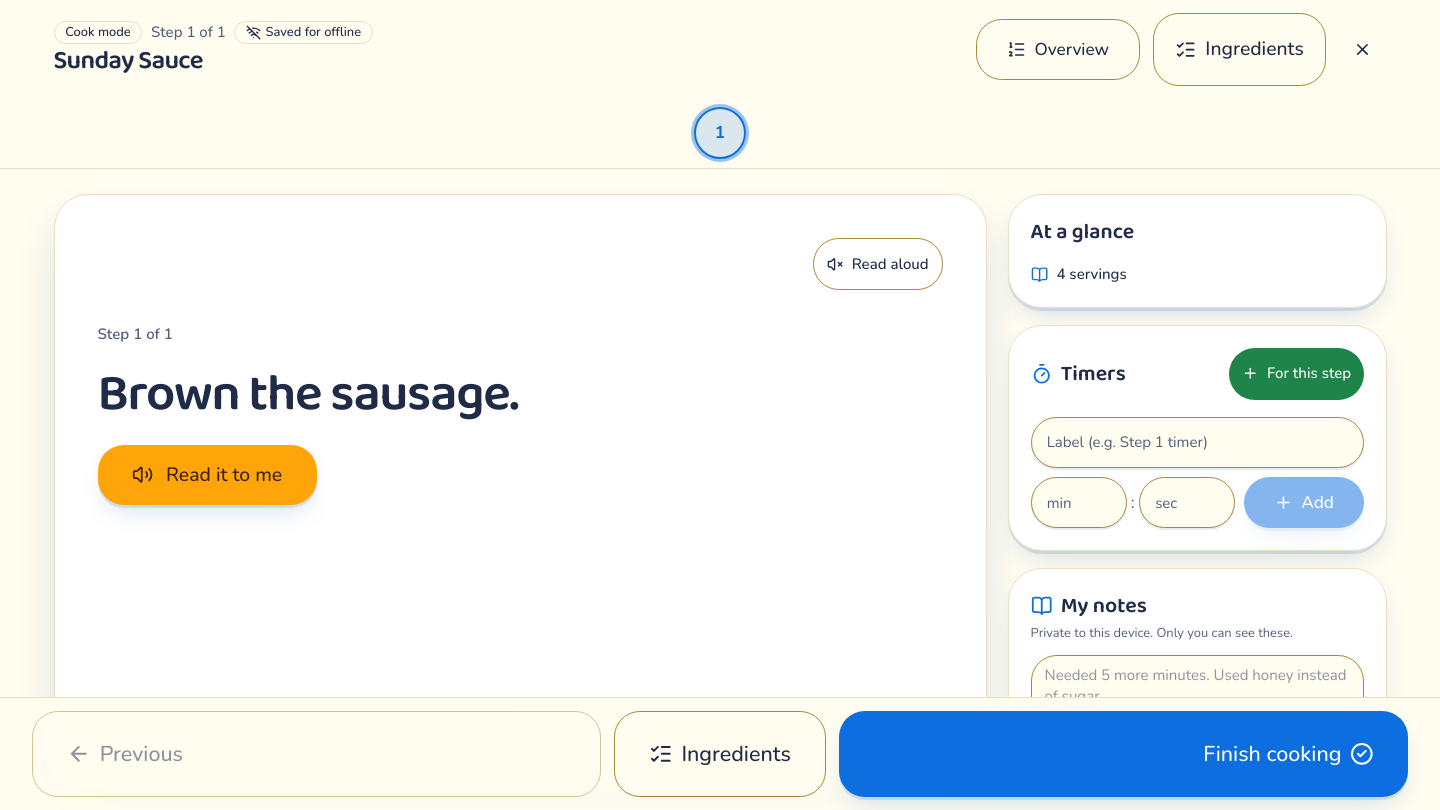
Test: Cook Mode collectible badges (issue #413) › keeps earned badges on a revisitable shelf
This screenshot has width=1440, height=810.
Click the button "Finish cooking" at (1272, 754), box left=839, top=711, right=1408, bottom=797
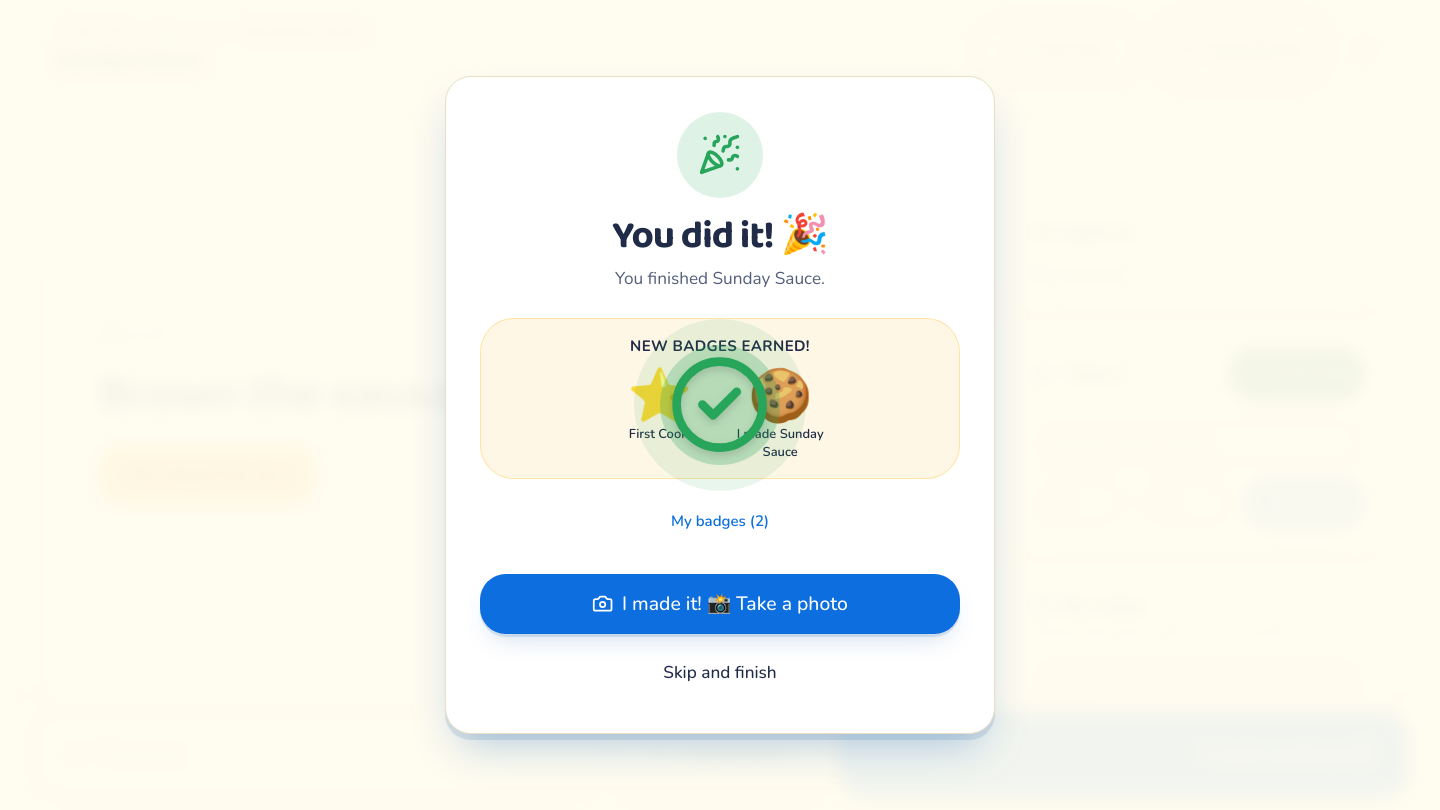
Click the button "My badges (2)" at (720, 522), box left=671, top=496, right=769, bottom=548
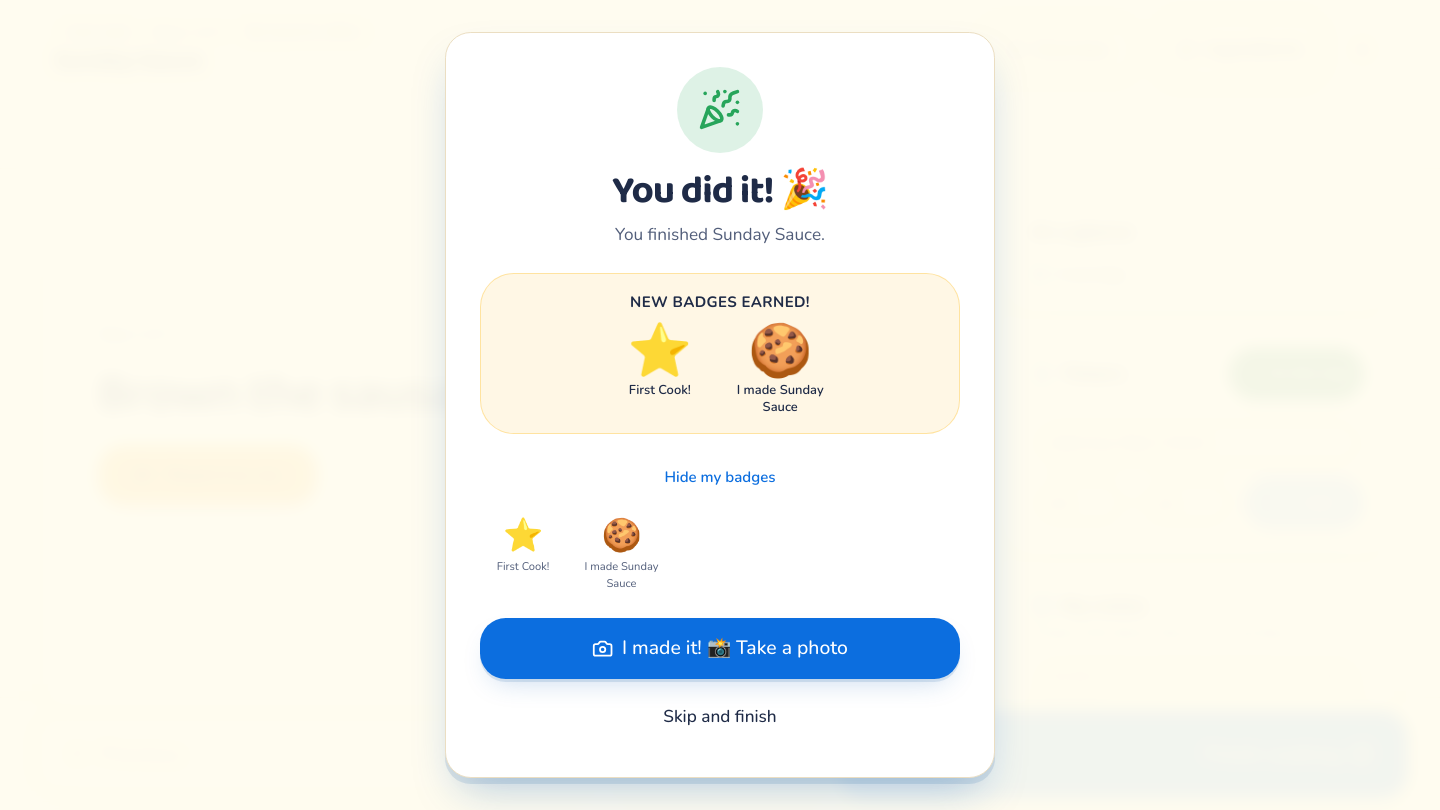
Expected: the text "I made Sunday Sauce" is shown 2 times, left=737, top=381, right=824, bottom=416; left=579, top=559, right=664, bottom=593
Expected: the button "Hide my badges" is expanded, left=664, top=452, right=776, bottom=503
